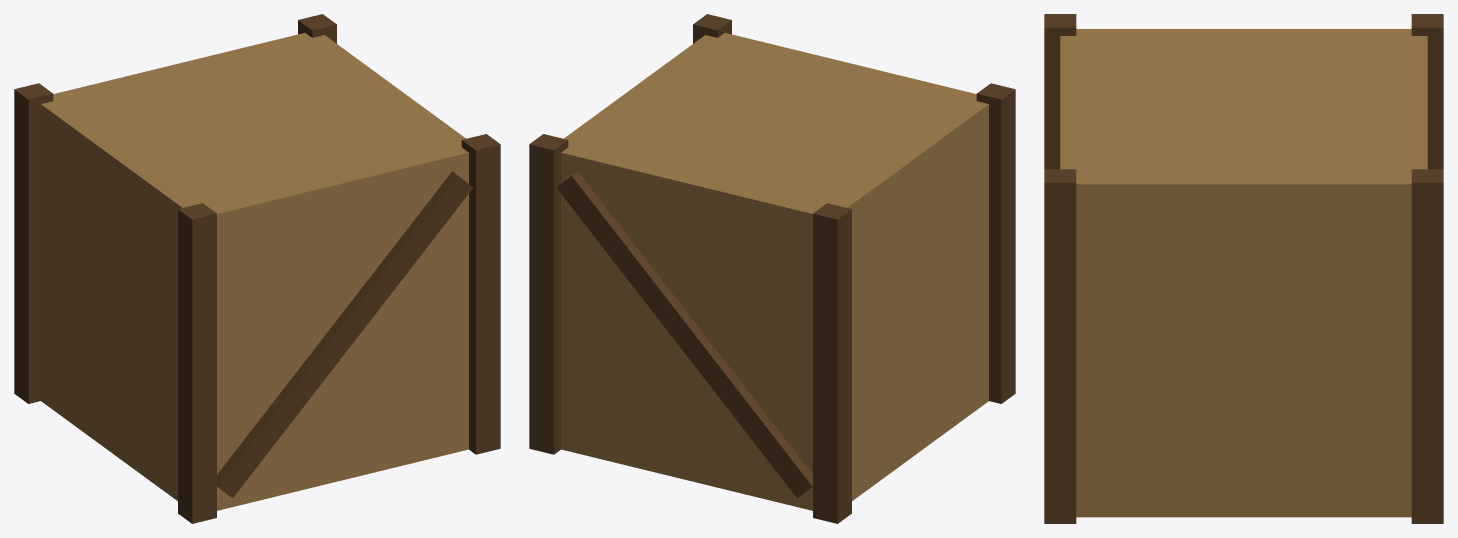
Rendered from crate.glb.
The picture shows the model from 3 angles, left to right: view 1: azimuth 30°, elevation 25°; view 2: azimuth 150°, elevation 25°; view 3: azimuth 270°, elevation 25°; orthographic projection. The views are drawn at different scales.
Parts seen in each view (by area): view 1: crate_body, crate_batten (×4), crate_brace; view 2: crate_body, crate_batten (×4), crate_brace; view 3: crate_body, crate_batten (×4).
Part boxes in pixels (x1=…): crate_body: x1=41, y1=33, x2=468, y2=510; crate_batten (×4): x1=14, y1=14, x2=500, y2=523; crate_brace: x1=217, y1=171, x2=472, y2=498; crate_body: x1=561, y1=33, x2=988, y2=510; crate_batten (×4): x1=529, y1=14, x2=1015, y2=523; crate_brace: x1=557, y1=171, x2=812, y2=498; crate_body: x1=1060, y1=29, x2=1427, y2=517; crate_batten (×4): x1=1044, y1=14, x2=1443, y2=523.
Bounding box in the file's own units: 0.87 × 0.82 × 0.87.
